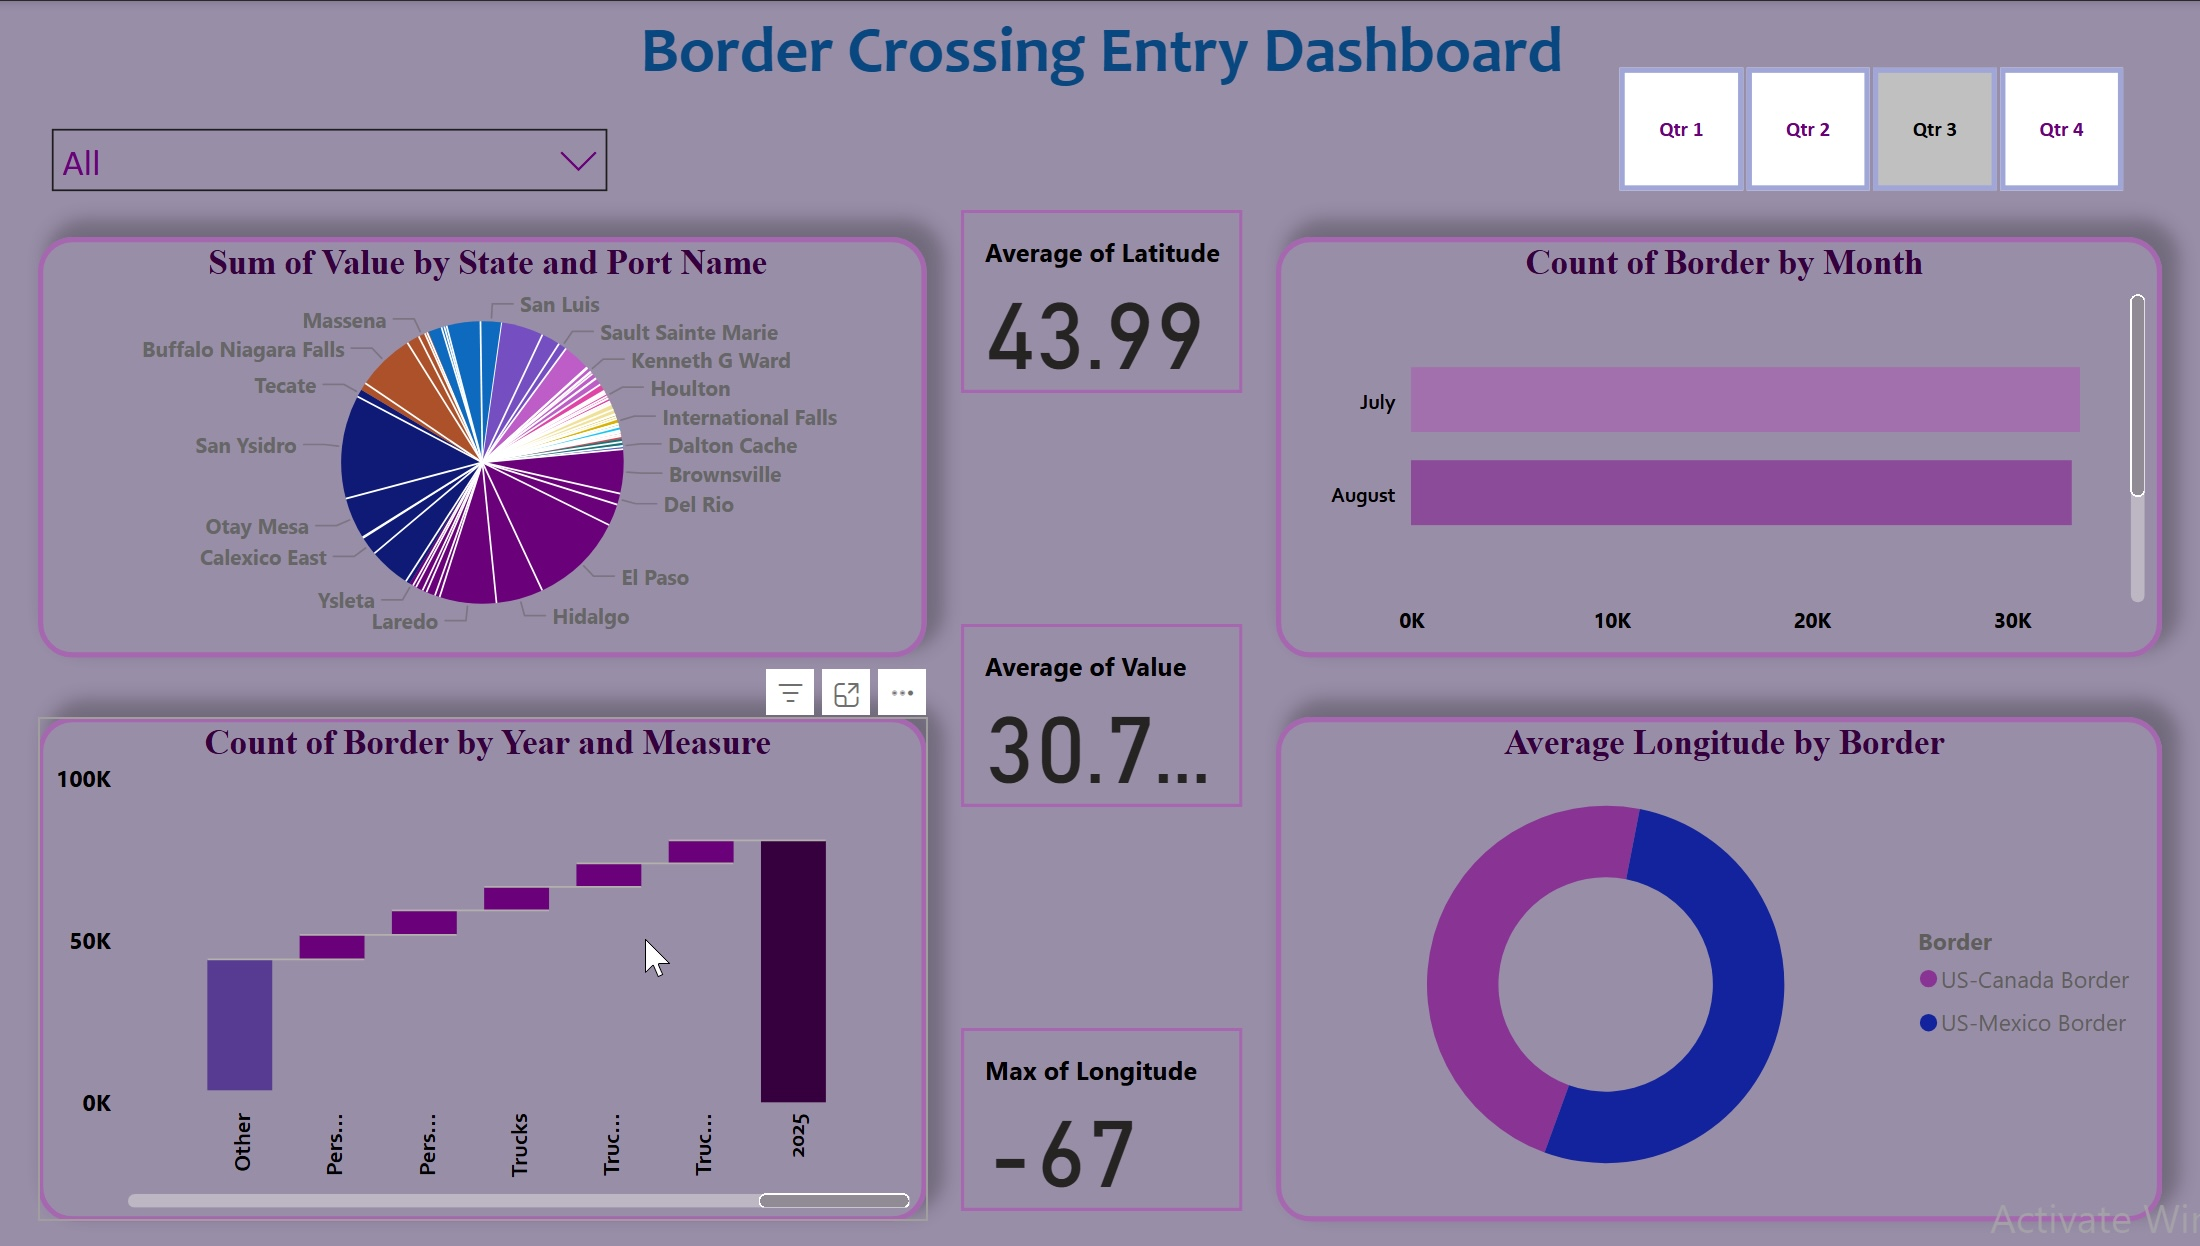

The dashboard page shown, as its layout file describes it:
{"tool":"powerbi","page":{"name":"Dashboard","canvas":[1280,720],"ordinal":0},"visuals":[{"type":"textbox","box":[0,0,1280,66.4],"z":0},{"type":"clusteredBarChart","fields":{"Category":["Border_Crossing_Entry_Data.Date.Variation.Date Hierarchy.Month"],"Y":["CountNonNull(Border_Crossing_Entry_Data.Border)"]},"box":[740.5,136.1,512,243],"z":1000},{"type":"waterfallChart","fields":{"Category":["Border_Crossing_Entry_Data.Date.Variation.Date Hierarchy.Year"],"Y":["CountNonNull(Border_Crossing_Entry_Data.Border)"],"Breakdown":["Border_Crossing_Entry_Data.Measure"]},"box":[25.9,413.2,513.6,291.6],"z":2000},{"type":"pieChart","fields":{"Category":["Border_Crossing_Entry_Data.State"],"Y":["Sum(Border_Crossing_Entry_Data.Value)"],"Series":["Border_Crossing_Entry_Data.Port Name"]},"box":[25.9,136.1,513.6,243],"z":3000},{"type":"donutChart","title":"Average Longitude by Border","fields":{"Category":["Border_Crossing_Entry_Data.Border"],"Y":["Avg(Border_Crossing_Entry_Data.Longitude)"]},"box":[740.5,413.2,512,291.6],"z":4000},{"type":"slicer","fields":{"Values":["Border_Crossing_Entry_Data.State"]},"box":[25.9,66.4,337,81],"z":4001},{"type":"slicer","fields":{"Values":["Border_Crossing_Entry_Data.Date.Variation.Date Hierarchy.Quarter"]},"box":[915.4,34,337,81],"z":4002},{"type":"cardVisual","fields":{"Data":["Avg(Border_Crossing_Entry_Data.Latitude)"]},"box":[554.1,115,173.4,116.7],"z":4003},{"type":"cardVisual","fields":{"Data":["Avg(Border_Crossing_Entry_Data.Value)"]},"box":[554.1,354.8,173.4,116.7],"z":4004},{"type":"cardVisual","fields":{"Data":["Max(Border_Crossing_Entry_Data.Longitude)"]},"box":[554.1,588.2,173.4,116.7],"z":4005}]}

Visuals, with their boxes in screenshot pixels (x1, y1, x2, y2), scaled from the page's 1280x720 canvas onto the 2200x1246 screenshot:
textbox: l=0, t=0, r=2199, b=115
clusteredBarChart - Border_Crossing_Entry_Data.Date.Variation.Date Hierarchy.Month x CountNonNull(Border_Crossing_Entry_Data.Border): l=1273, t=236, r=2153, b=656
waterfallChart - Border_Crossing_Entry_Data.Date.Variation.Date Hierarchy.Year x CountNonNull(Border_Crossing_Entry_Data.Border): l=45, t=715, r=927, b=1220
pieChart - Border_Crossing_Entry_Data.State x Sum(Border_Crossing_Entry_Data.Value): l=45, t=236, r=927, b=656
"Average Longitude by Border" donutChart: l=1273, t=715, r=2153, b=1220
slicer - Border_Crossing_Entry_Data.State: l=45, t=115, r=624, b=255
slicer - Border_Crossing_Entry_Data.Date.Variation.Date Hierarchy.Quarter: l=1573, t=59, r=2153, b=199
cardVisual - Avg(Border_Crossing_Entry_Data.Latitude): l=952, t=199, r=1250, b=401
cardVisual - Avg(Border_Crossing_Entry_Data.Value): l=952, t=614, r=1250, b=816
cardVisual - Max(Border_Crossing_Entry_Data.Longitude): l=952, t=1018, r=1250, b=1220
